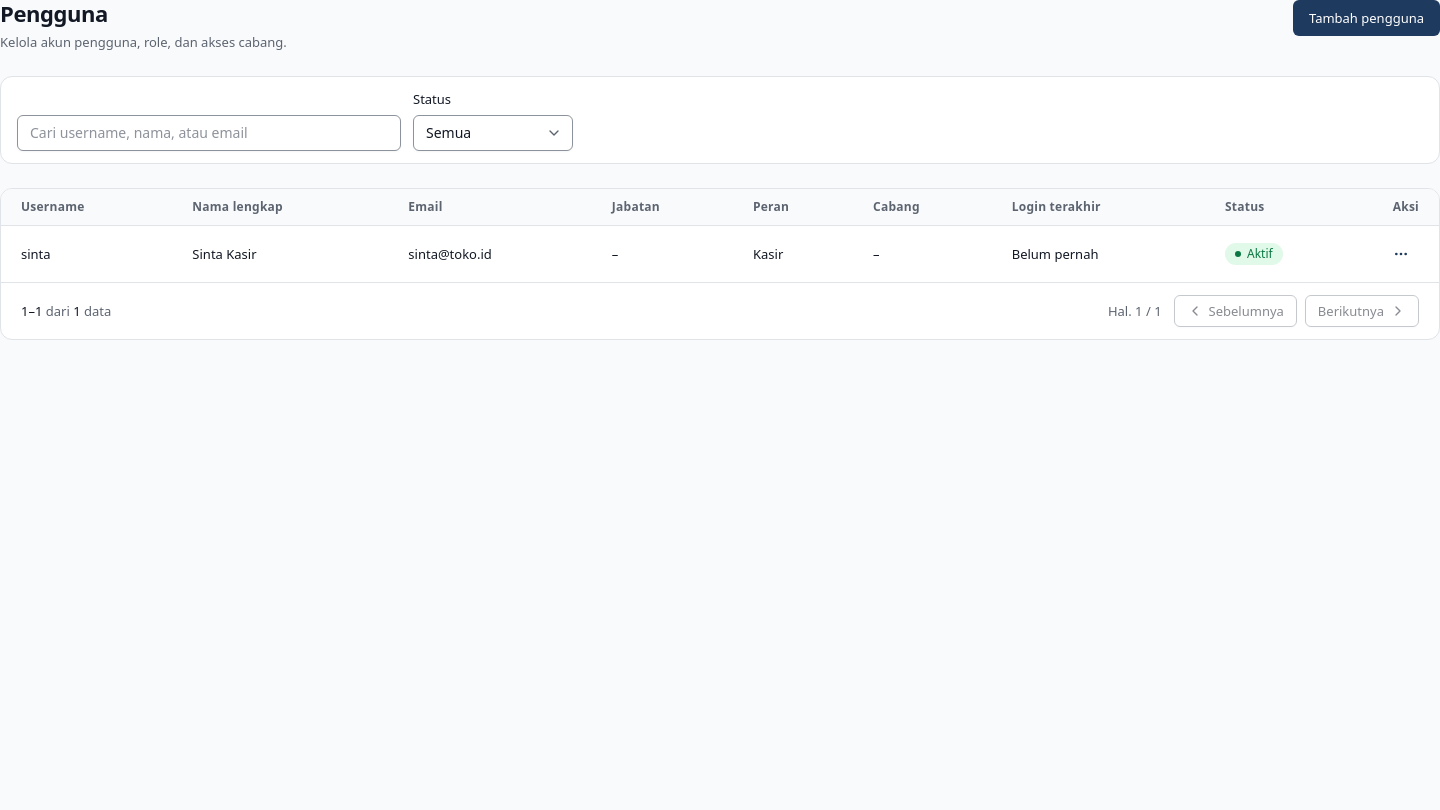
Test case: halaman pengguna — buat pengguna › submit kosong: semua isian wajib ditandai dan server tidak dipanggil
Expected: the text "sinta" is shown, 21,244 -> 51,262
Click the button "Tambah pengguna". click: (1366, 18)
box: 1293,0 -> 1439,36
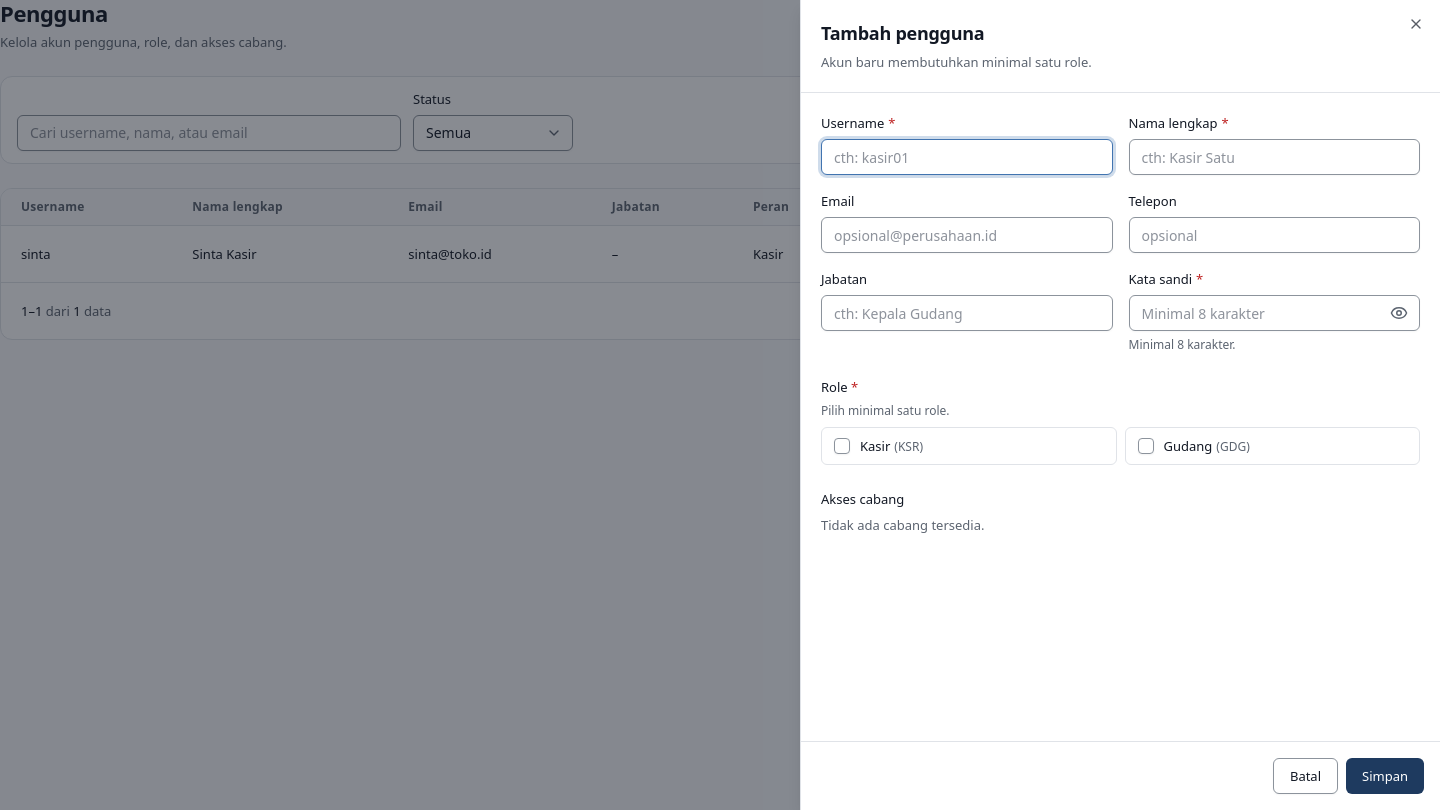
Now the field labelled "Username *" is shown, box 821,139 -> 1112,175
Click the button "Simpan". click: (1385, 776)
box: 1346,758 -> 1424,794
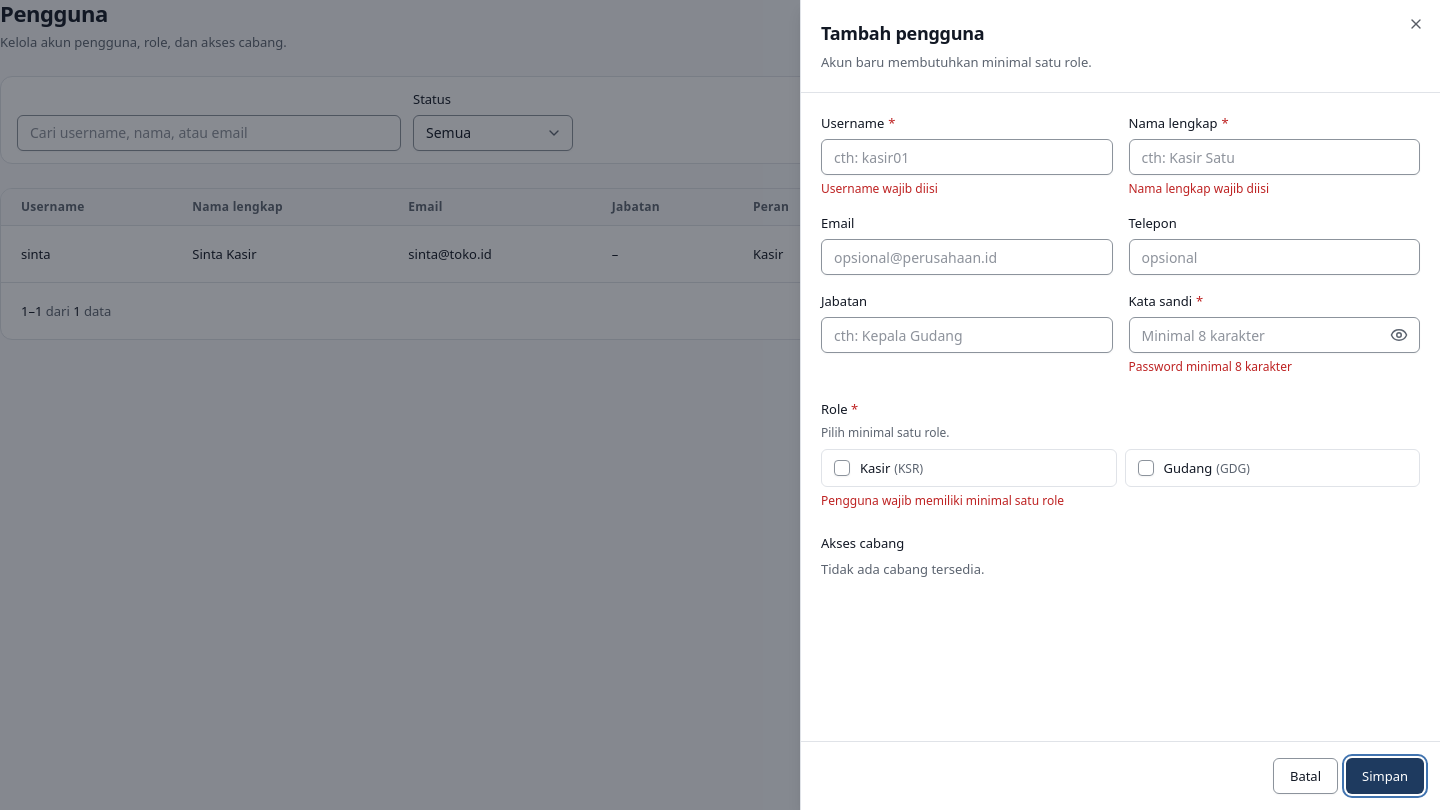
Now the text "Username wajib diisi" is shown, box 821,180 -> 938,197
Now the text "Nama lengkap wajib diisi" is shown, box 1128,180 -> 1269,197
Now the text "Password minimal 8 karakter" is shown, box 1128,358 -> 1292,375
